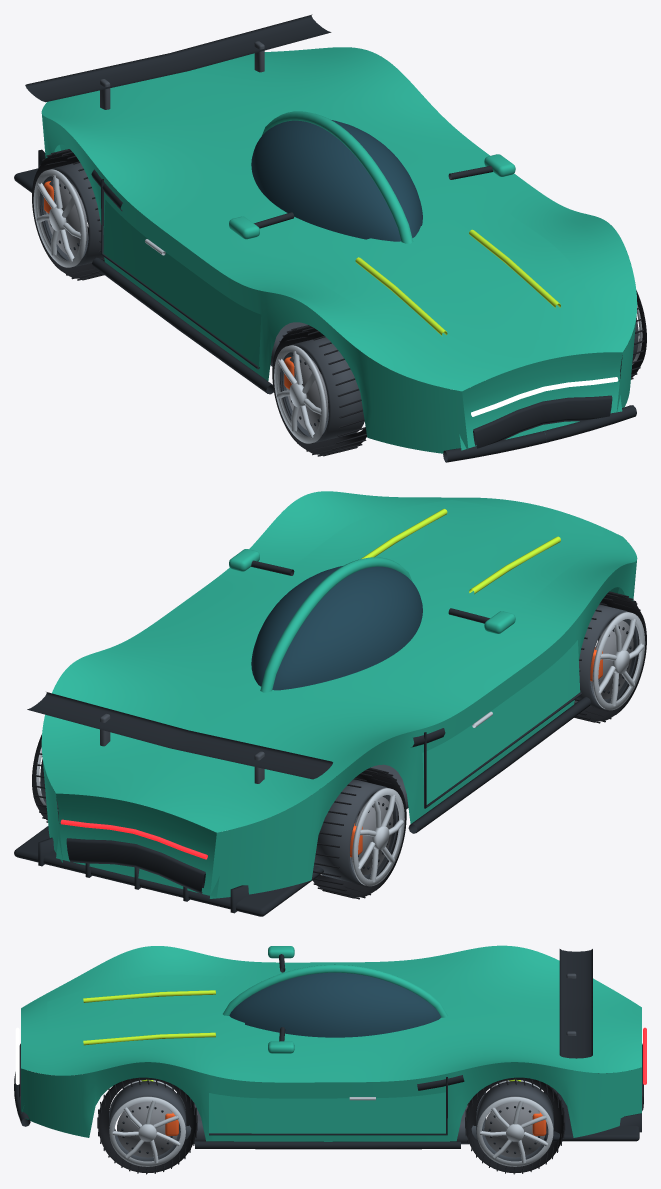
Rendered from concept-flux.glb.
The picture shows the model from 3 angles, top to bottom: view 1: azimuth 30°, elevation 25°; view 2: azimuth 150°, elevation 25°; view 3: azimuth 270°, elevation 25°; orthographic projection. The views are drawn at different scales.
Parts seen in each view (by area): view 1: Sculpted unibody upper shell, Hood, SidePanelL_arched_fender_skin, RoofGlass_canopy, DoorL, Wing, FrontBumper, RimFrontL_layered_forged, RimRearL_layered_forged, FrontBumper_carbon_inlet, RockerL, Roof_structural_spine (+10 smaller); view 2: Sculpted unibody upper shell, Hood, SidePanelL_arched_fender_skin, RoofGlass_canopy, DoorL, RearBumper, Wing, RimRearL_layered_forged, RimFrontL_layered_forged, Diffuser, RearBumper_carbon_inlet, Roof_structural_spine (+10 smaller); view 3: Sculpted unibody upper shell, SidePanelR_arched_fender_skin, Hood, RoofGlass_canopy, DoorR, RimFrontR_layered_forged, RimRearR_layered_forged, Wing, TireFrontR_directional_tread, TireRearR_directional_tread, RockerR, Roof_structural_spine (+7 smaller).
Part boxes in pixels (bbox=[...]): Sculpted unibody upper shell: bbox=[41, 47, 637, 391]; Hood: bbox=[288, 210, 598, 364]; SidePanelL_arched_fender_skin: bbox=[41, 113, 468, 453]; RoofGlass_canopy: bbox=[251, 120, 422, 241]; DoorL: bbox=[103, 200, 261, 367]; Wing: bbox=[25, 14, 331, 109]; FrontBumper: bbox=[459, 352, 622, 450]; RimFrontL_layered_forged: bbox=[274, 337, 364, 443]; RimRearL_layered_forged: bbox=[33, 163, 104, 267]; FrontBumper_carbon_inlet: bbox=[473, 395, 612, 448]; RockerL: bbox=[92, 257, 273, 394]; Roof_structural_spine: bbox=[262, 111, 413, 243]; Sculpted unibody upper shell: bbox=[41, 491, 637, 832]; Hood: bbox=[290, 500, 598, 618]; SidePanelL_arched_fender_skin: bbox=[209, 540, 636, 898]; RoofGlass_canopy: bbox=[251, 566, 422, 690]; DoorL: bbox=[422, 640, 580, 804]; RearBumper: bbox=[56, 793, 219, 897]; Wing: bbox=[27, 692, 332, 783]; RimRearL_layered_forged: bbox=[314, 779, 404, 886]; RimFrontL_layered_forged: bbox=[574, 604, 645, 710]; Diffuser: bbox=[14, 818, 323, 916]; RearBumper_carbon_inlet: bbox=[66, 838, 205, 893]; Roof_structural_spine: bbox=[260, 557, 412, 692]; Sculpted unibody upper shell: bbox=[21, 945, 641, 1082]; SidePanelR_arched_fender_skin: bbox=[21, 1062, 641, 1141]; Hood: bbox=[47, 974, 244, 1057]; RoofGlass_canopy: bbox=[229, 972, 440, 1037]; DoorR: bbox=[209, 1092, 445, 1133]; RimFrontR_layered_forged: bbox=[109, 1081, 186, 1166]; RimRearR_layered_forged: bbox=[476, 1081, 553, 1166]; Wing: bbox=[559, 949, 592, 1058]; TireFrontR_directional_tread: bbox=[97, 1077, 197, 1174]; TireRearR_directional_tread: bbox=[465, 1077, 565, 1174]; RockerR: bbox=[195, 1141, 460, 1149]; Roof_structural_spine: bbox=[223, 964, 447, 1017].
Bounding box in the file's own units: 2.1 × 1.21 × 4.55.
